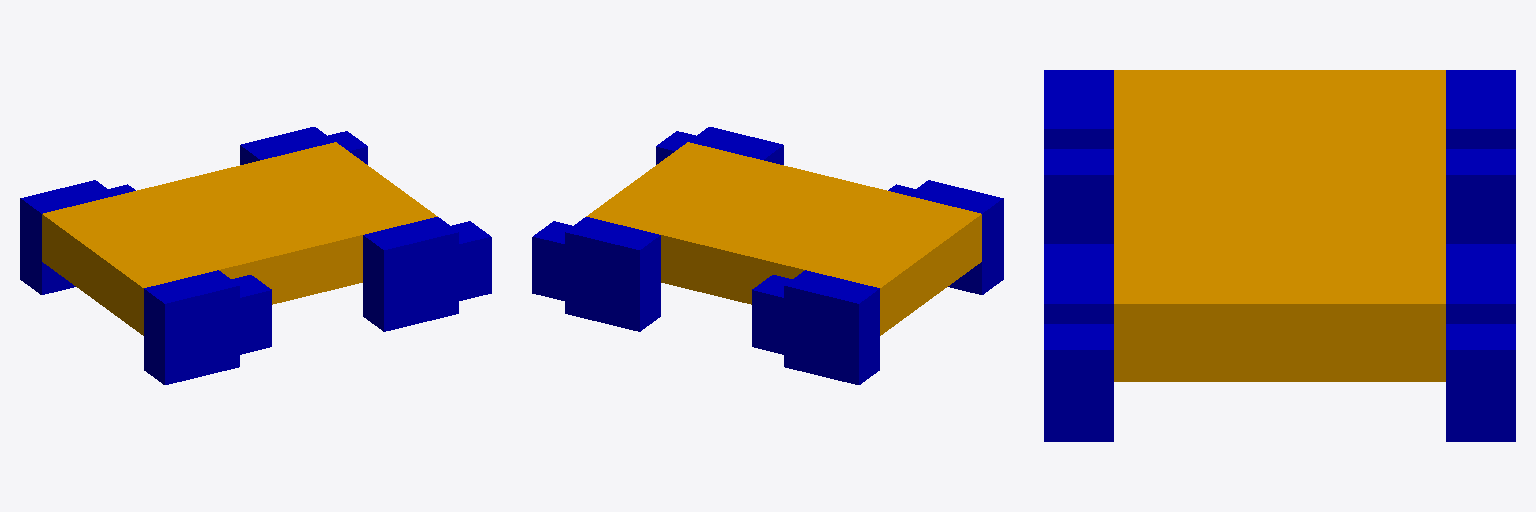
robot.urdf — ker:
<?xml version="1.0" ?>
<!-- =================================================================================== -->
<!-- |    This document was autogenerated by xacro from ker2.urdf.xacro                | -->
<!-- |    EDITING THIS FILE BY HAND IS NOT RECOMMENDED                                 | -->
<!-- =================================================================================== -->
<robot name="ker" xmlns:xacro="http://www.ros.org/wiki/xacro">
  <!--TRANSMISSION-->
  <!--DEFAULT INERTIAL PARAMETERS-->
  <!--JOINT OPTION PRESETS-->
  <!--MOTOR (CORONA)-->
  <!--MOTOR (DYNAMIXEL)-->
  <!--HUMERUS-->
  <!--FEMUR-->
  <!--RADIUS-->
  <!--TIBULA-->
  <!--BODY-->
  <link name="body">
    <inertial>
      <mass value="10"/>
      <inertia ixx="1.0" ixy="0.0" ixz="0.0" iyy="1.0" iyz="0.0" izz="1.0"/>
    </inertial>
    <collision>
      <origin rpy="0 0 0" xyz="0 0 0.0"/>
      <geometry>
        <box size="0.2 0.12 0.031"/>
      </geometry>
    </collision>
    <visual>
      <origin rpy="0 0 0" xyz="0 0 0.0"/>
      <geometry>
        <box size="0.2 0.12 0.031"/>
        <!--<mesh filename="package://ker_description/meshes/bucket_komp.STL" scale="0.001 0.001 0.001"/-->
      </geometry>
    </visual>
  </link>
  <!--EXECUTE MACROS-->
  <link name="big_motor_1">
    <inertial>
      <mass value="0.5"/>
      <inertia ixx="1.0" ixy="0.0" ixz="0.0" iyy="1.0" iyz="0.0" izz="1.0"/>
    </inertial>
    <visual>
      <geometry>
        <box size="0.051 0.025 0.053"/>
      </geometry>
      <origin rpy="0 0 0" xyz="0 0 0"/>
      <material name="blue">
        <color rgba="0 0 .8 1"/>
      </material>
    </visual>
    <collision>
      <geometry>
        <box size="0.051 0.025 0.053"/>
      </geometry>
      <origin rpy="0 0 0" xyz="0 0 0"/>
    </collision>
  </link>
  <joint name="big_motor_1_joint" type="fixed">
    <parent link="body"/>
    <child link="big_motor_1"/>
    <origin rpy="0 0 0" xyz="0.0745 0.0725 -0.011"/>
  </joint>
  <link name="big_motor_2">
    <inertial>
      <mass value="0.5"/>
      <inertia ixx="1.0" ixy="0.0" ixz="0.0" iyy="1.0" iyz="0.0" izz="1.0"/>
    </inertial>
    <visual>
      <geometry>
        <box size="0.051 0.025 0.053"/>
      </geometry>
      <origin rpy="0 0 0" xyz="0 0 0"/>
      <material name="blue">
        <color rgba="0 0 .8 1"/>
      </material>
    </visual>
    <collision>
      <geometry>
        <box size="0.051 0.025 0.053"/>
      </geometry>
      <origin rpy="0 0 0" xyz="0 0 0"/>
    </collision>
  </link>
  <joint name="big_motor_2_joint" type="fixed">
    <parent link="body"/>
    <child link="big_motor_2"/>
    <origin rpy="0 0 0" xyz="0.0745 -0.0725 -0.011"/>
  </joint>
  <link name="big_motor_3">
    <inertial>
      <mass value="0.5"/>
      <inertia ixx="1.0" ixy="0.0" ixz="0.0" iyy="1.0" iyz="0.0" izz="1.0"/>
    </inertial>
    <visual>
      <geometry>
        <box size="0.051 0.025 0.053"/>
      </geometry>
      <origin rpy="0 0 0" xyz="0 0 0"/>
      <material name="blue">
        <color rgba="0 0 .8 1"/>
      </material>
    </visual>
    <collision>
      <geometry>
        <box size="0.051 0.025 0.053"/>
      </geometry>
      <origin rpy="0 0 0" xyz="0 0 0"/>
    </collision>
  </link>
  <joint name="big_motor_3_joint" type="fixed">
    <parent link="body"/>
    <child link="big_motor_3"/>
    <origin rpy="0 0 0" xyz="-0.0745 -0.0725 -0.011"/>
  </joint>
  <link name="big_motor_4">
    <inertial>
      <mass value="0.5"/>
      <inertia ixx="1.0" ixy="0.0" ixz="0.0" iyy="1.0" iyz="0.0" izz="1.0"/>
    </inertial>
    <visual>
      <geometry>
        <box size="0.051 0.025 0.053"/>
      </geometry>
      <origin rpy="0 0 0" xyz="0 0 0"/>
      <material name="blue">
        <color rgba="0 0 .8 1"/>
      </material>
    </visual>
    <collision>
      <geometry>
        <box size="0.051 0.025 0.053"/>
      </geometry>
      <origin rpy="0 0 0" xyz="0 0 0"/>
    </collision>
  </link>
  <joint name="big_motor_4_joint" type="fixed">
    <parent link="body"/>
    <child link="big_motor_4"/>
    <origin rpy="0 0 0" xyz="-0.0745 0.0725 -0.011"/>
  </joint>
  <link name="motor_1">
    <inertial>
      <mass value="0.5"/>
      <inertia ixx="1.0" ixy="0.0" ixz="0.0" iyy="1.0" iyz="0.0" izz="1.0"/>
    </inertial>
    <visual>
      <geometry>
        <box size="0.022 0.025 0.037"/>
      </geometry>
      <origin rpy="0 0 0" xyz="0 0 0"/>
      <material name="blue">
        <color rgba="0 0 .8 1"/>
      </material>
    </visual>
    <collision>
      <geometry>
        <box size="0.022 0.025 0.037"/>
      </geometry>
      <origin rpy="0 0 0" xyz="0 0 0"/>
    </collision>
  </link>
  <joint name="motor_1_joint" type="revolute">
    <parent link="big_motor_1"/>
    <child link="motor_1"/>
    <origin rpy="0 0 0" xyz="0.0365 0 0"/>
    <axis xyz="1 0 0"/>
    <dynamics damping="0.1" friction="0.1"/>
    <limit effort="3.0" lower="0.0" upper="3.15" velocity="3.0"/>
  </joint>
  <transmission name="motor_1_joint_transmission">
    <type>transmission_interface/SimpleTransmission</type>
    <joint name="motor_1_joint">
      <hardwareInterface>PositionJointInterface</hardwareInterface>
    </joint>
    <actuator name="motor_1_joint_motor">
      <mechanicalReduction>1</mechanicalReduction>
    </actuator>
  </transmission>
  <link name="motor_2">
    <inertial>
      <mass value="0.5"/>
      <inertia ixx="1.0" ixy="0.0" ixz="0.0" iyy="1.0" iyz="0.0" izz="1.0"/>
    </inertial>
    <visual>
      <geometry>
        <box size="0.022 0.025 0.037"/>
      </geometry>
      <origin rpy="0 0 0" xyz="0 0 0"/>
      <material name="blue">
        <color rgba="0 0 .8 1"/>
      </material>
    </visual>
    <collision>
      <geometry>
        <box size="0.022 0.025 0.037"/>
      </geometry>
      <origin rpy="0 0 0" xyz="0 0 0"/>
    </collision>
  </link>
  <joint name="motor_2_joint" type="revolute">
    <parent link="big_motor_2"/>
    <child link="motor_2"/>
    <origin rpy="0 0 0" xyz="0.0365 0 0"/>
    <axis xyz="1 0 0"/>
    <dynamics damping="0.1" friction="0.1"/>
    <limit effort="3.0" lower="0.0" upper="3.15" velocity="3.0"/>
  </joint>
  <transmission name="motor_2_joint_transmission">
    <type>transmission_interface/SimpleTransmission</type>
    <joint name="motor_2_joint">
      <hardwareInterface>PositionJointInterface</hardwareInterface>
    </joint>
    <actuator name="motor_2_joint_motor">
      <mechanicalReduction>1</mechanicalReduction>
    </actuator>
  </transmission>
  <link name="motor_3">
    <inertial>
      <mass value="0.5"/>
      <inertia ixx="1.0" ixy="0.0" ixz="0.0" iyy="1.0" iyz="0.0" izz="1.0"/>
    </inertial>
    <visual>
      <geometry>
        <box size="0.022 0.025 0.037"/>
      </geometry>
      <origin rpy="0 0 0" xyz="0 0 0"/>
      <material name="blue">
        <color rgba="0 0 .8 1"/>
      </material>
    </visual>
    <collision>
      <geometry>
        <box size="0.022 0.025 0.037"/>
      </geometry>
      <origin rpy="0 0 0" xyz="0 0 0"/>
    </collision>
  </link>
  <joint name="motor_3_joint" type="revolute">
    <parent link="big_motor_3"/>
    <child link="motor_3"/>
    <origin rpy="0 0 0" xyz="0.0365 0 0"/>
    <axis xyz="1 0 0"/>
    <dynamics damping="0.1" friction="0.1"/>
    <limit effort="3.0" lower="0.0" upper="3.15" velocity="3.0"/>
  </joint>
  <transmission name="motor_3_joint_transmission">
    <type>transmission_interface/SimpleTransmission</type>
    <joint name="motor_3_joint">
      <hardwareInterface>PositionJointInterface</hardwareInterface>
    </joint>
    <actuator name="motor_3_joint_motor">
      <mechanicalReduction>1</mechanicalReduction>
    </actuator>
  </transmission>
  <link name="motor_4">
    <inertial>
      <mass value="0.5"/>
      <inertia ixx="1.0" ixy="0.0" ixz="0.0" iyy="1.0" iyz="0.0" izz="1.0"/>
    </inertial>
    <visual>
      <geometry>
        <box size="0.022 0.025 0.037"/>
      </geometry>
      <origin rpy="0 0 0" xyz="0 0 0"/>
      <material name="blue">
        <color rgba="0 0 .8 1"/>
      </material>
    </visual>
    <collision>
      <geometry>
        <box size="0.022 0.025 0.037"/>
      </geometry>
      <origin rpy="0 0 0" xyz="0 0 0"/>
    </collision>
  </link>
  <joint name="motor_4_joint" type="revolute">
    <parent link="big_motor_4"/>
    <child link="motor_4"/>
    <origin rpy="0 0 0" xyz="0.0365 0 0"/>
    <axis xyz="1 0 0"/>
    <dynamics damping="0.1" friction="0.1"/>
    <limit effort="3.0" lower="0.0" upper="3.15" velocity="3.0"/>
  </joint>
  <transmission name="motor_4_joint_transmission">
    <type>transmission_interface/SimpleTransmission</type>
    <joint name="motor_4_joint">
      <hardwareInterface>PositionJointInterface</hardwareInterface>
    </joint>
    <actuator name="motor_4_joint_motor">
      <mechanicalReduction>1</mechanicalReduction>
    </actuator>
  </transmission>
  <gazebo>
    <plugin filename="libgazebo_ros_control.so" name="gazebo_ros_control">
      <robotParam>robot_description</robotParam>
    </plugin>
  </gazebo>
</robot>

--- Facts derived from the render (not from the file) ---
The picture shows the robot from 3 angles, left to right: view 1: azimuth 30°, elevation 25°; view 2: azimuth 150°, elevation 25°; view 3: azimuth 270°, elevation 25°; orthographic projection.
Model ker with 9 links and 8 joints (4 revolute, 4 fixed), rooted at body, posed all joints at 0.
Links seen in each view (by area): view 1: body, big_motor_2, big_motor_3, big_motor_4, motor_2, motor_3, big_motor_1, motor_1; view 2: body, big_motor_1, big_motor_4, big_motor_3, motor_1, motor_4, big_motor_2, motor_2; view 3: body, motor_1, motor_2, motor_3, motor_4, big_motor_1, big_motor_2, big_motor_3, big_motor_4.
Boxes of the visible links, x1,y1,x2,y2 form: body: (42,142,437,335); big_motor_2: (363,217,458,331); big_motor_3: (144,270,239,384); big_motor_4: (20,180,116,294); motor_2: (451,221,491,300); motor_3: (232,275,271,354); big_motor_1: (240,127,334,164); motor_1: (328,131,367,164); body: (586,142,981,335); big_motor_1: (565,217,660,331); big_motor_4: (784,270,879,384); big_motor_3: (907,180,1003,294); motor_1: (532,221,572,300); motor_4: (752,275,791,354); big_motor_2: (689,127,783,164); motor_2: (656,131,695,164); body: (1114,70,1445,381); motor_1: (1446,324,1515,441); motor_2: (1044,324,1113,441); motor_3: (1044,149,1113,243); motor_4: (1446,149,1515,243); big_motor_1: (1446,244,1515,323); big_motor_2: (1044,244,1113,323); big_motor_3: (1044,70,1113,148); big_motor_4: (1446,70,1515,148).
Bounding box of the posed robot: 0.222 × 0.17 × 0.053 m (x, y, z).
Geometry: primitives only (box / cylinder / sphere), no mesh files.
